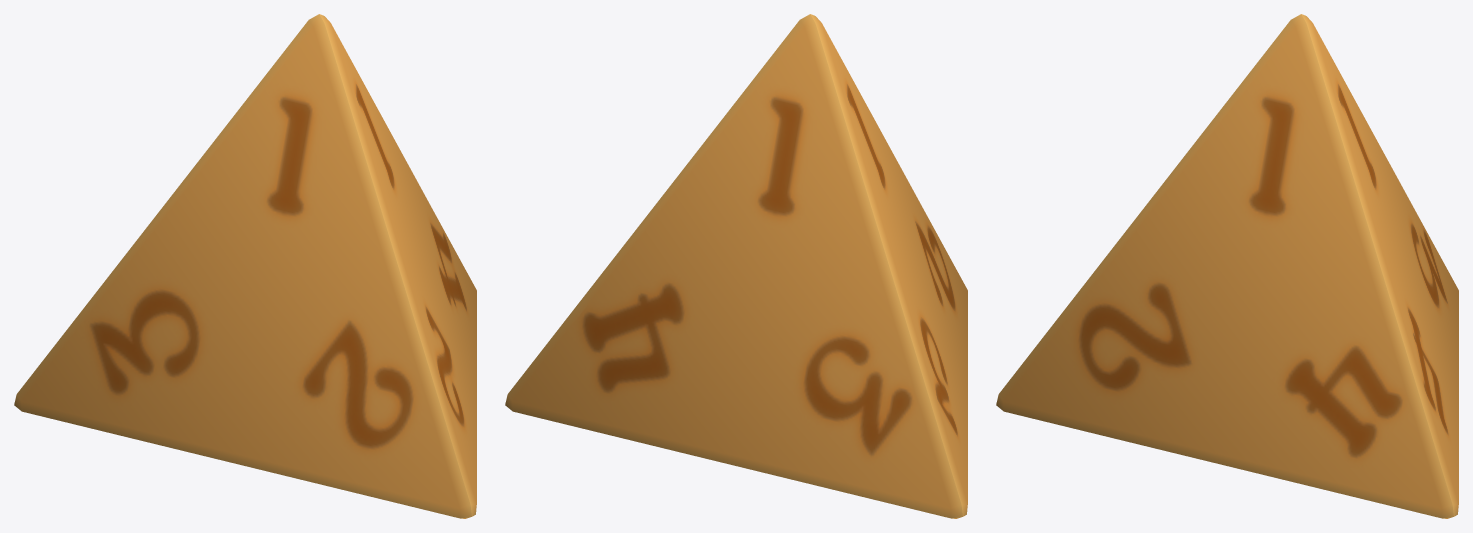
The model's file is d4-yellow.glb.
The picture shows the model from 3 angles, left to right: view 1: azimuth 30°, elevation 25°; view 2: azimuth 150°, elevation 25°; view 3: azimuth 270°, elevation 25°; orthographic projection.
Parts seen in each view (by area): view 1: D4_yellow; view 2: D4_yellow; view 3: D4_yellow.
Part boxes in pixels (x1,y1,x2,y2): D4_yellow: (14,14,476,518); D4_yellow: (505,14,967,518); D4_yellow: (996,14,1458,518).
Bounding box in the file's own units: 0.9591 × 0.7969 × 0.8396.
1 material, 1 textured.
